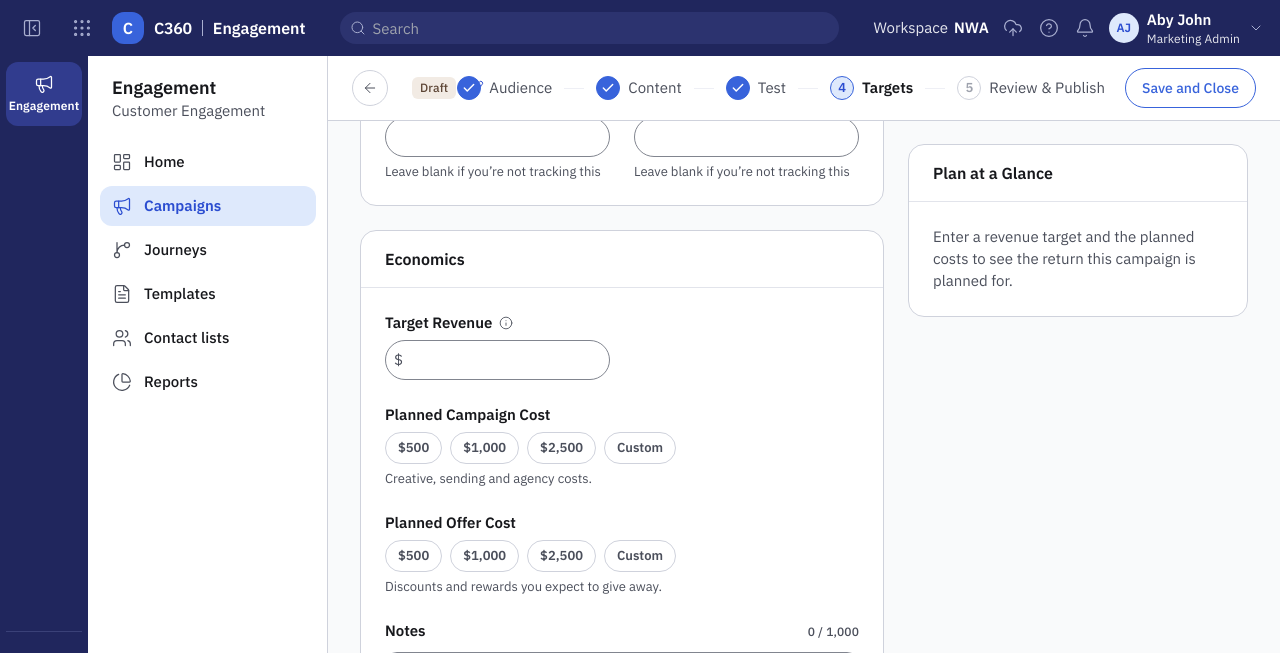
Test: the plan: cost per conversion from both costs, total spend and return, and "—" until there is enough to work it out
(page scrolled)
Expected: the heading "Plan at a Glance" is shown, left=933, top=161, right=1053, bottom=185
Expected: the text "Enter a revenue target and the planned costs" is shown, left=933, top=227, right=1196, bottom=290
Type "10000" into the field labelled "Target Revenue". click: (506, 360)
box: left=407, top=341, right=605, bottom=379
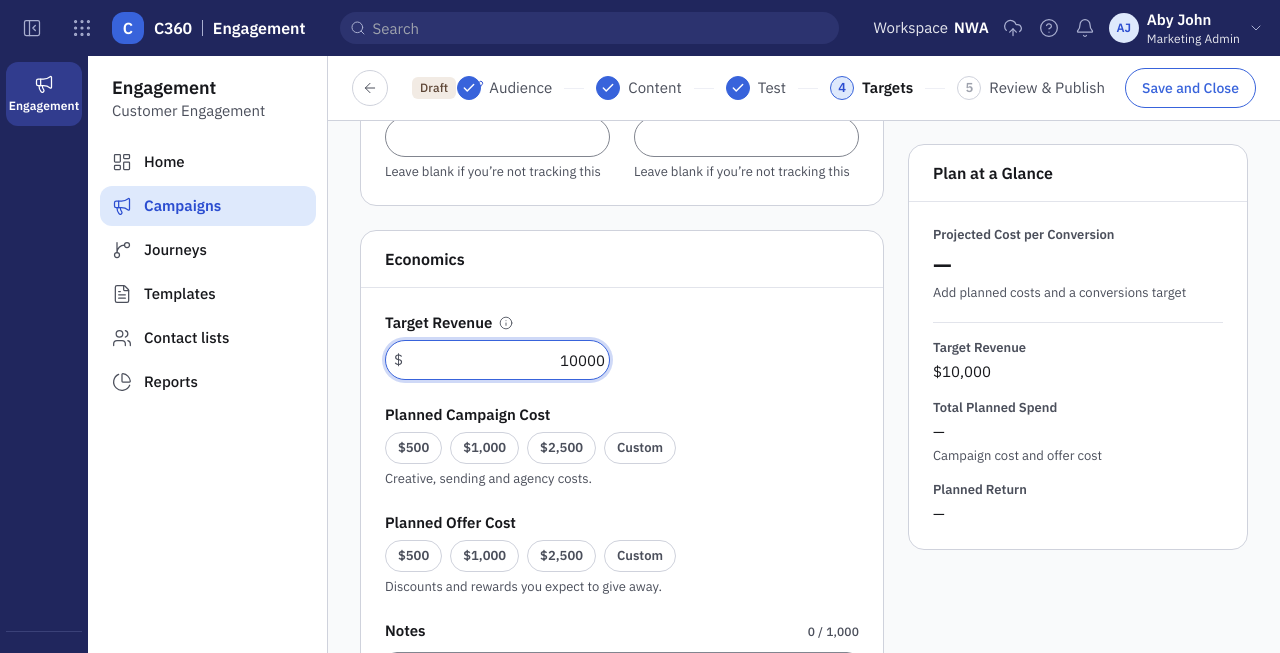
Now the element with test id "cost-per-conversion" shows "—", box left=933, top=248, right=952, bottom=280
Now the element with test id "cost-per-conversion" shows "Add planned costs and a conversions target", box left=933, top=284, right=1186, bottom=301
Now the text "$10,000" is shown, box left=933, top=362, right=991, bottom=381
Click the radio button labelled "$2,500" below "Planned Campaign Cost". click: click(562, 448)
box: left=527, top=432, right=596, bottom=464
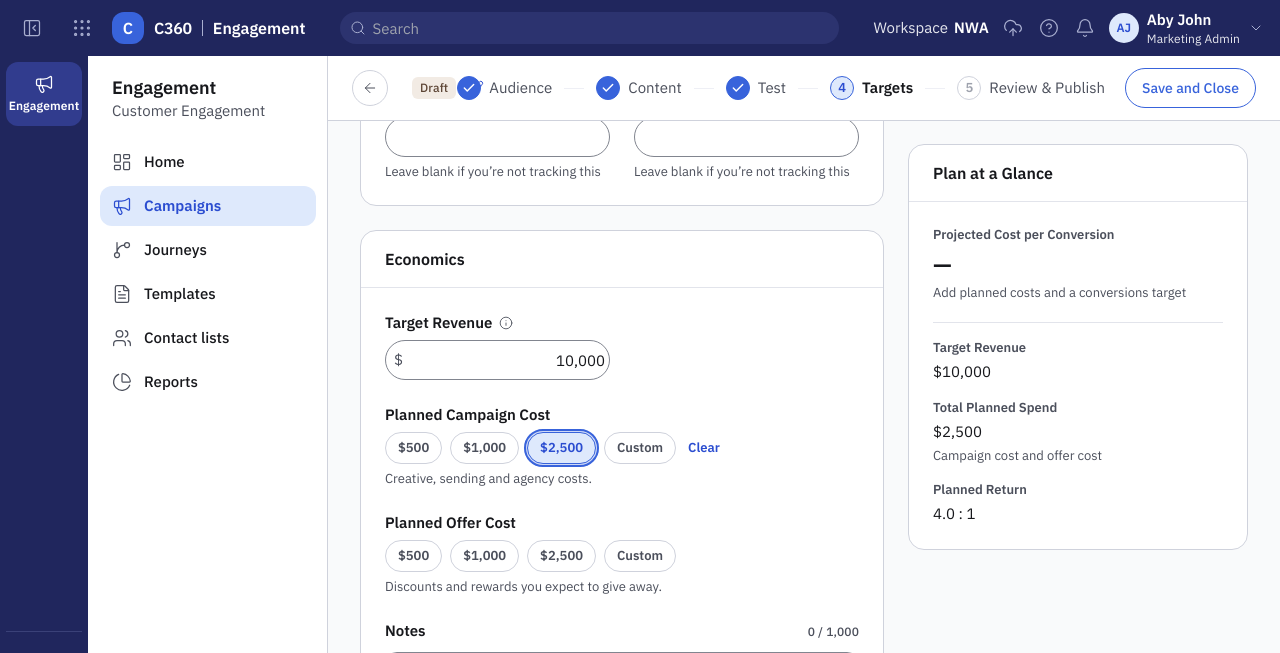
Click the radio button labelled "$500" below "Planned Offer Cost". click: click(414, 556)
box: left=385, top=540, right=442, bottom=572
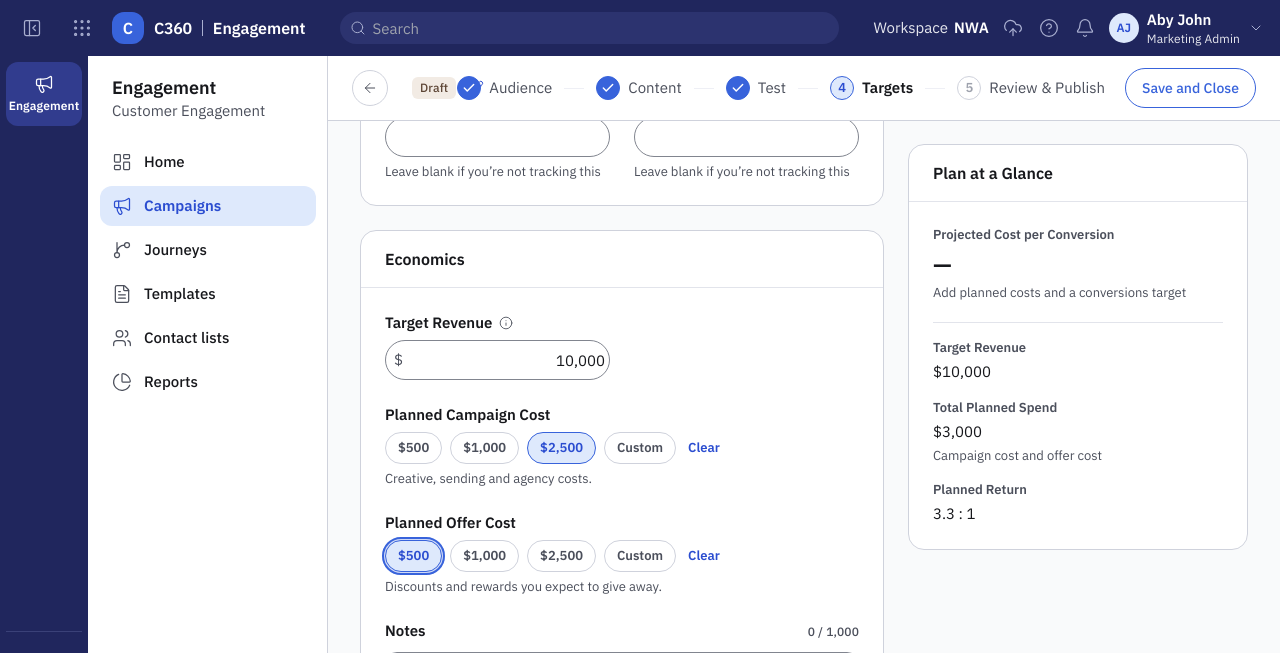
Now the element with test id "cost-per-conversion" shows "—", box left=933, top=248, right=952, bottom=280
Now the text "$3,000" is shown, box left=933, top=422, right=982, bottom=441
Now the text "3.3 : 1" is shown, box left=933, top=504, right=976, bottom=523
Type "40" into the field labelled "Conversions". click: (500, 137)
box: left=394, top=118, right=605, bottom=156
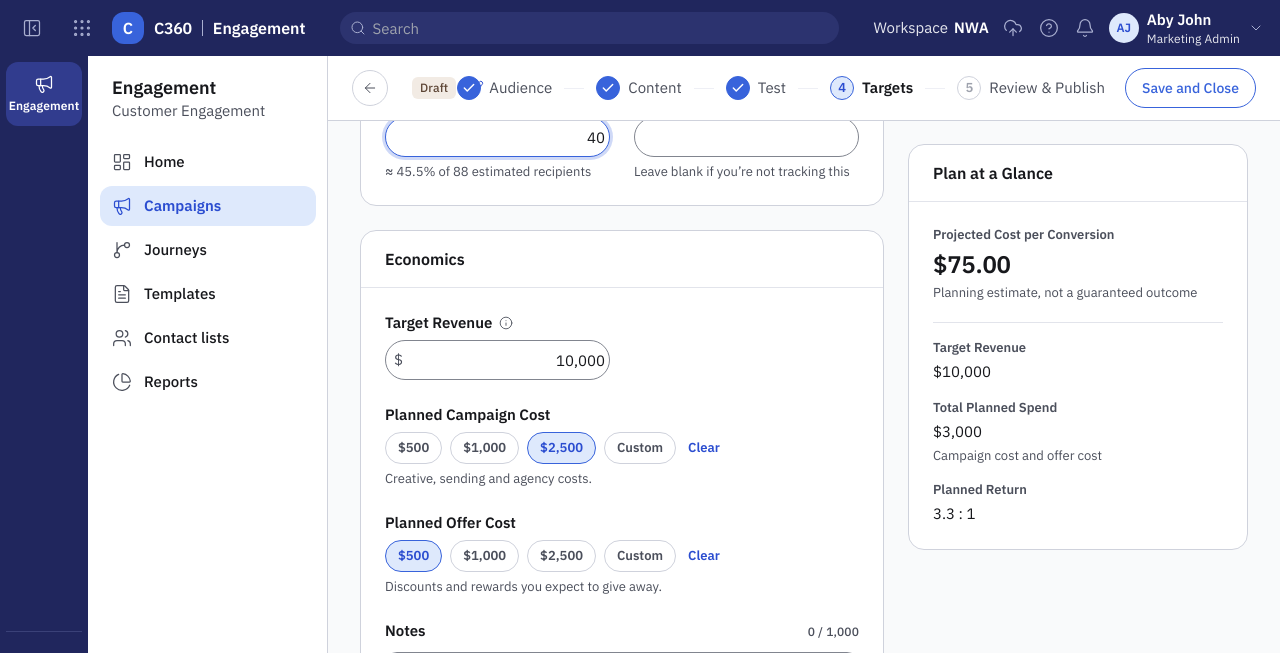
Now the element with test id "cost-per-conversion" shows "$75.00", box left=933, top=248, right=1011, bottom=280
Now the element with test id "cost-per-conversion" shows "Planning estimate, not a guaranteed outcome", box left=933, top=284, right=1198, bottom=301
